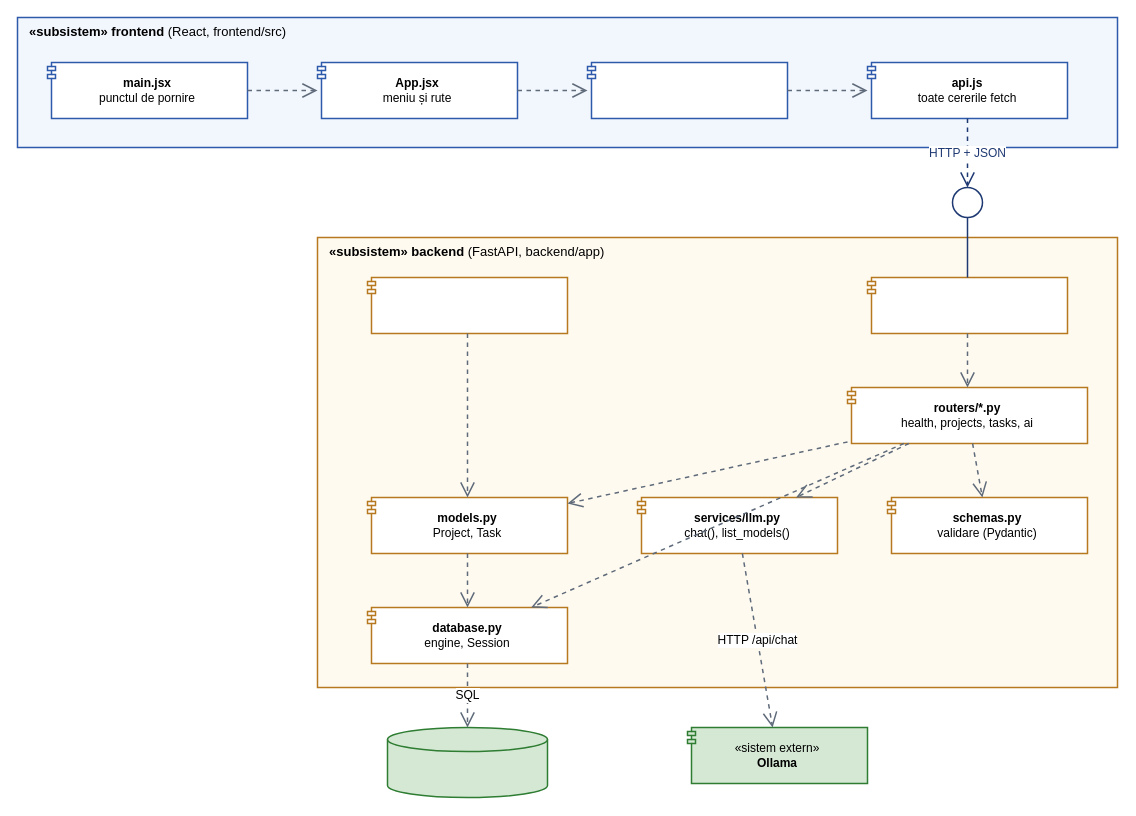
Some shapes in this 1136 by 816 pixel diagram are drawn without their labels. The centre of each missing label's shape, as x and y in pixels:
"alembic/ migrările" goes at pixel 467 305.
"API REST /api/*" goes at pixel 967 202.
"main.py aplicația, CORS" goes at pixel 967 305.
"pages/*.jsx Home, Tasks, Assistant" goes at pixel 687 90.
"PostgreSQL baza isia" goes at pixel 467 762.
